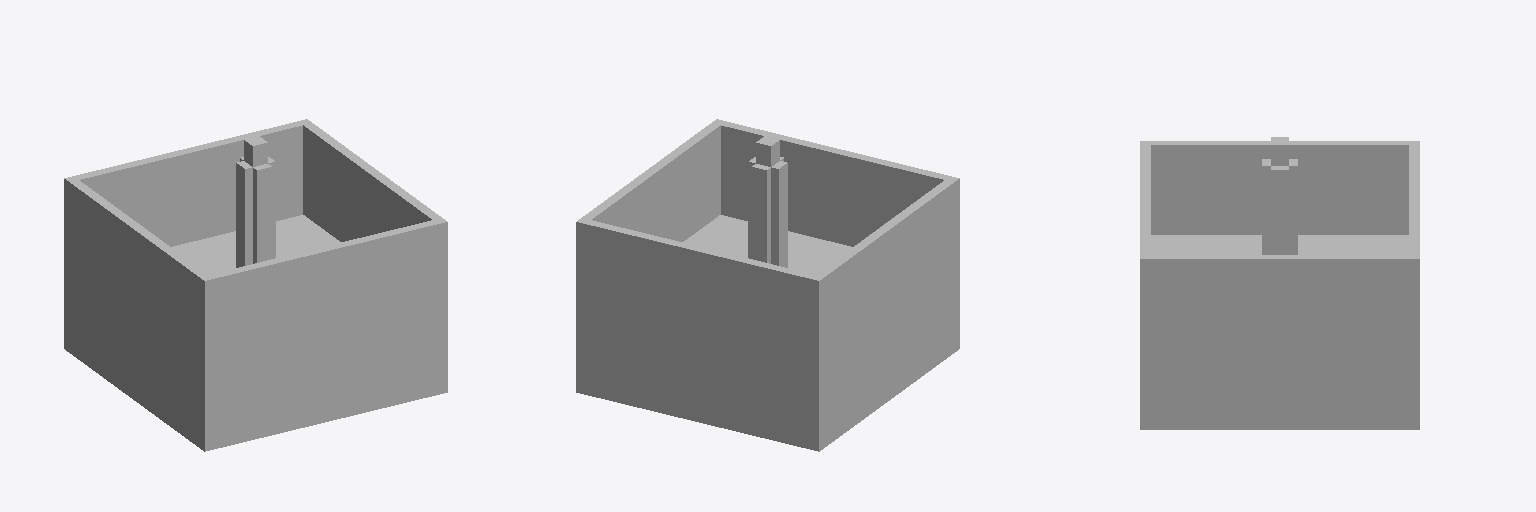
Rendered from block_grinder_box.obj.
3 views of the same model, side by side, from view 1: azimuth 30°, elevation 25°; view 2: azimuth 150°, elevation 25°; view 3: azimuth 270°, elevation 25° (orthographic).
Visible parts, largest first — view 1: Cube.001_Cube.003; view 2: Cube.001_Cube.003; view 3: Cube.001_Cube.003.
Boxes of the visible parts, <box> form: Cube.001_Cube.003: <box>64,119,447,451</box>; Cube.001_Cube.003: <box>576,119,959,451</box>; Cube.001_Cube.003: <box>1140,137,1419,429</box>.
Bounding box in the file's own units: 2 × 1.81 × 2.